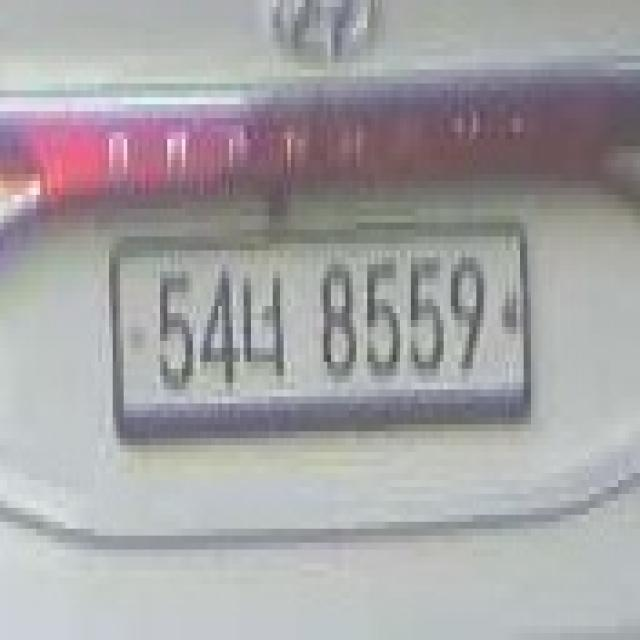4: (200, 250, 240, 410)
5: (149, 250, 196, 382), (408, 244, 448, 396), (367, 236, 400, 396)
8: (313, 244, 356, 396)
9: (447, 237, 491, 376)
license_plate: (102, 216, 534, 466)
neo: (240, 264, 295, 383)
